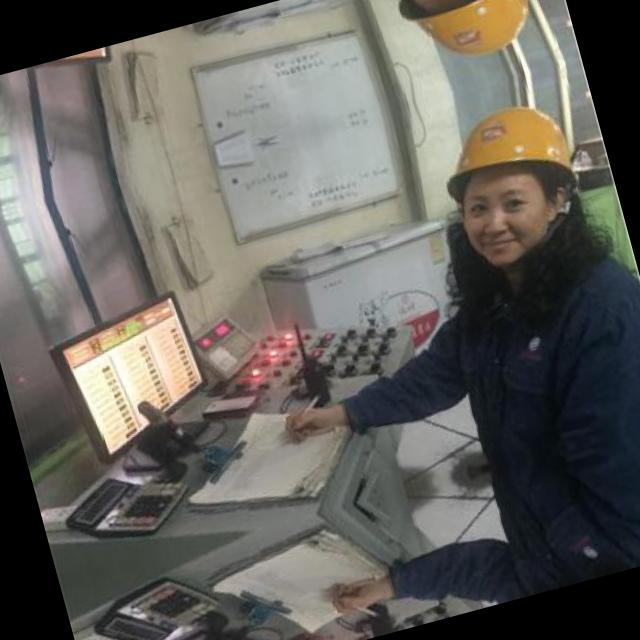helmet: (409, 78, 610, 288), (369, 0, 557, 90)
